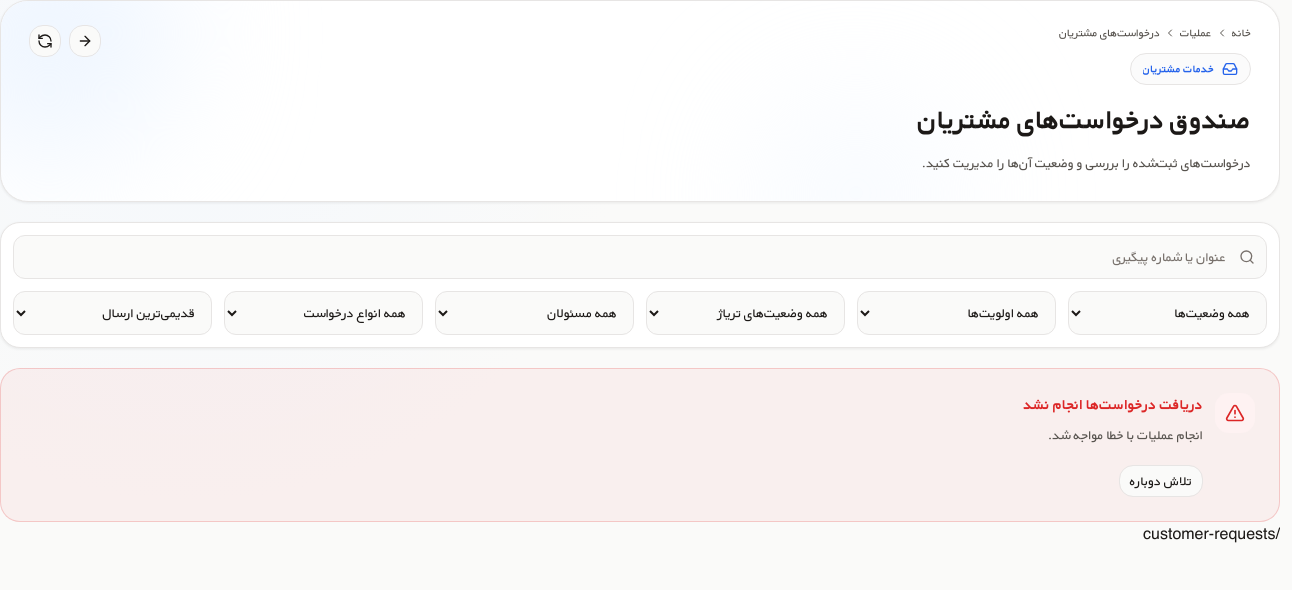
Test: CustomerRequestsInboxPage › shows the canonical query error and retries
This screenshot has width=1292, height=590.
Expected: the message "دریافت درخواست‌ها انجام نشد انجام عملیات با خطا مواجه شد. تلاش دوباره" is shown, [0,368,1280,522]
Click the button "تلاش دوباره". click: [1161, 481]
box: [1119,465,1203,497]
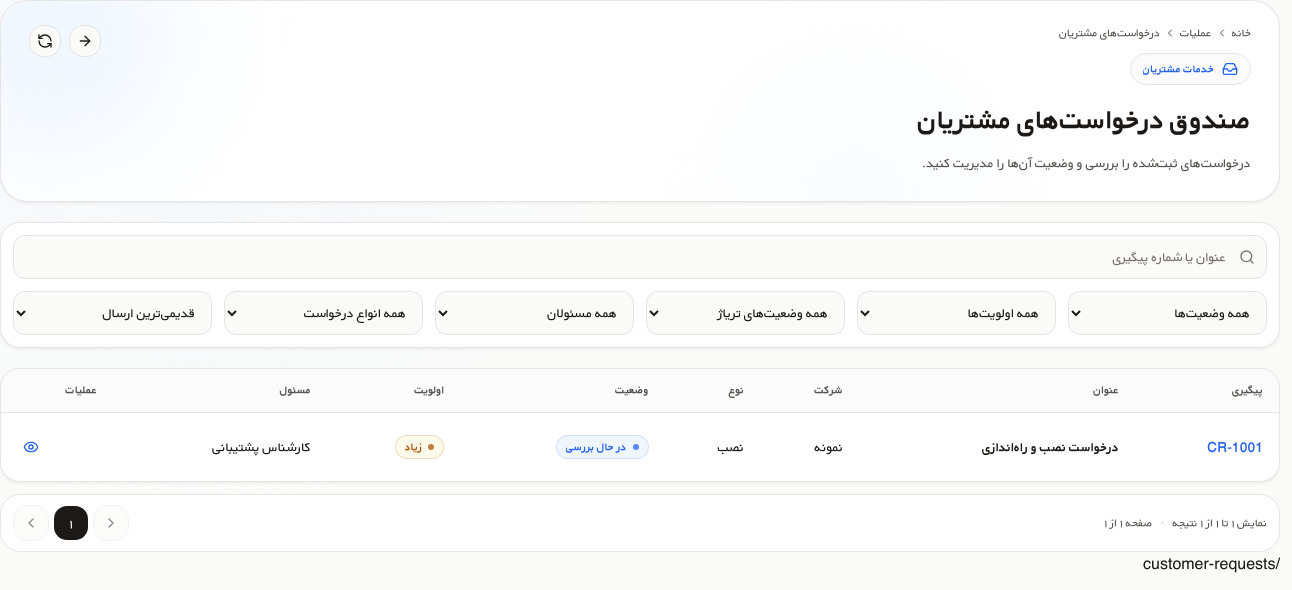
Now the text "درخواست نصب و راه‌اندازی" is shown 2 times
